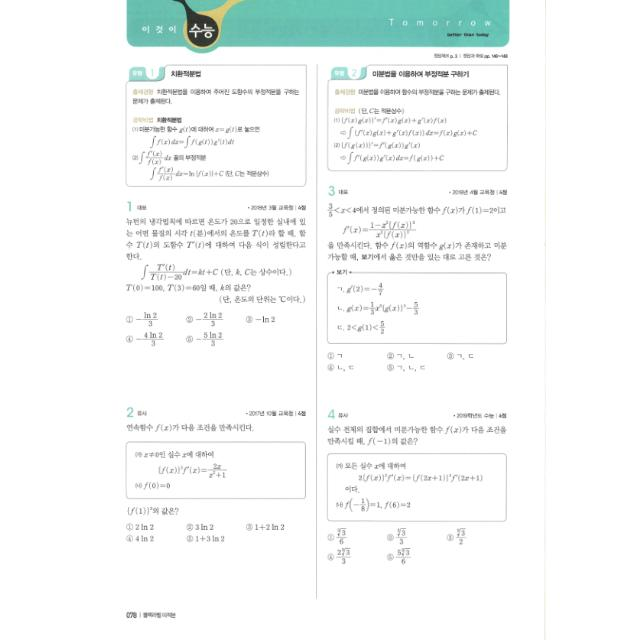multiple: (320, 175, 516, 388), (322, 399, 514, 579), (113, 394, 311, 562), (115, 192, 311, 360)
